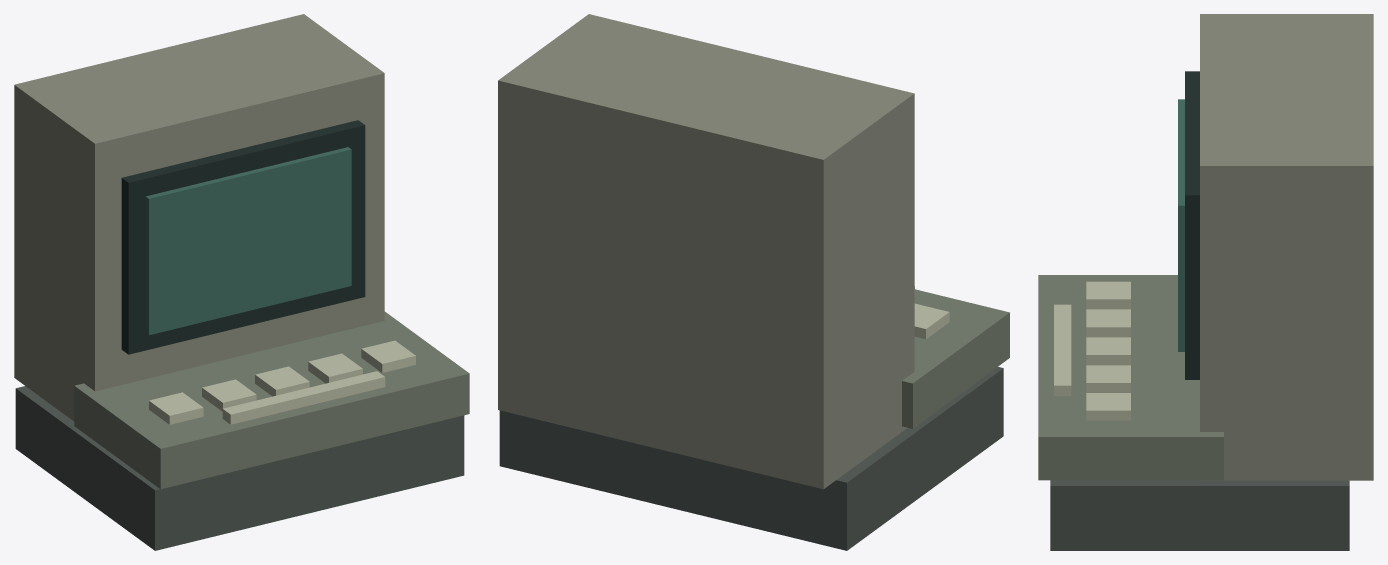
Rendered from CMU3DInteriorRMCGroundsideOperationsConsoleGovfor.glb.
The picture shows the model from 3 angles, left to right: view 1: azimuth 30°, elevation 25°; view 2: azimuth 150°, elevation 25°; view 3: azimuth 270°, elevation 25°; orthographic projection. The views are drawn at different scales.
Visible parts, largest first — view 1: CRT case, key deck, screen, terminal base, screen recess, keyboard key (×5), spacebar; view 2: CRT case, terminal base, key deck, keyboard key; view 3: CRT case, key deck, terminal base, keyboard key (×5), screen recess, screen, spacebar.
Boxes of the visible parts, x1=… form: CRT case: x1=14, y1=14, x2=384, y2=421; key deck: x1=74, y1=311, x2=469, y2=489; screen: x1=145, y1=147, x2=351, y2=335; terminal base: x1=15, y1=386, x2=464, y2=550; screen recess: x1=121, y1=120, x2=365, y2=354; keyboard key (×5): x1=149, y1=340, x2=415, y2=424; spacebar: x1=222, y1=371, x2=385, y2=424; CRT case: x1=498, y1=14, x2=914, y2=489; terminal base: x1=499, y1=367, x2=1003, y2=550; key deck: x1=902, y1=289, x2=1009, y2=428; keyboard key: x1=914, y1=303, x2=949, y2=339; CRT case: x1=1200, y1=14, x2=1373, y2=480; key deck: x1=1038, y1=275, x2=1223, y2=480; terminal base: x1=1050, y1=480, x2=1349, y2=550; keyboard key (×5): x1=1086, y1=281, x2=1130, y2=420; screen recess: x1=1185, y1=71, x2=1199, y2=379; screen: x1=1178, y1=99, x2=1184, y2=351; spacebar: x1=1054, y1=304, x2=1071, y2=396.
Size of the model in its own units: 0.64 by 0.7 by 0.56.
